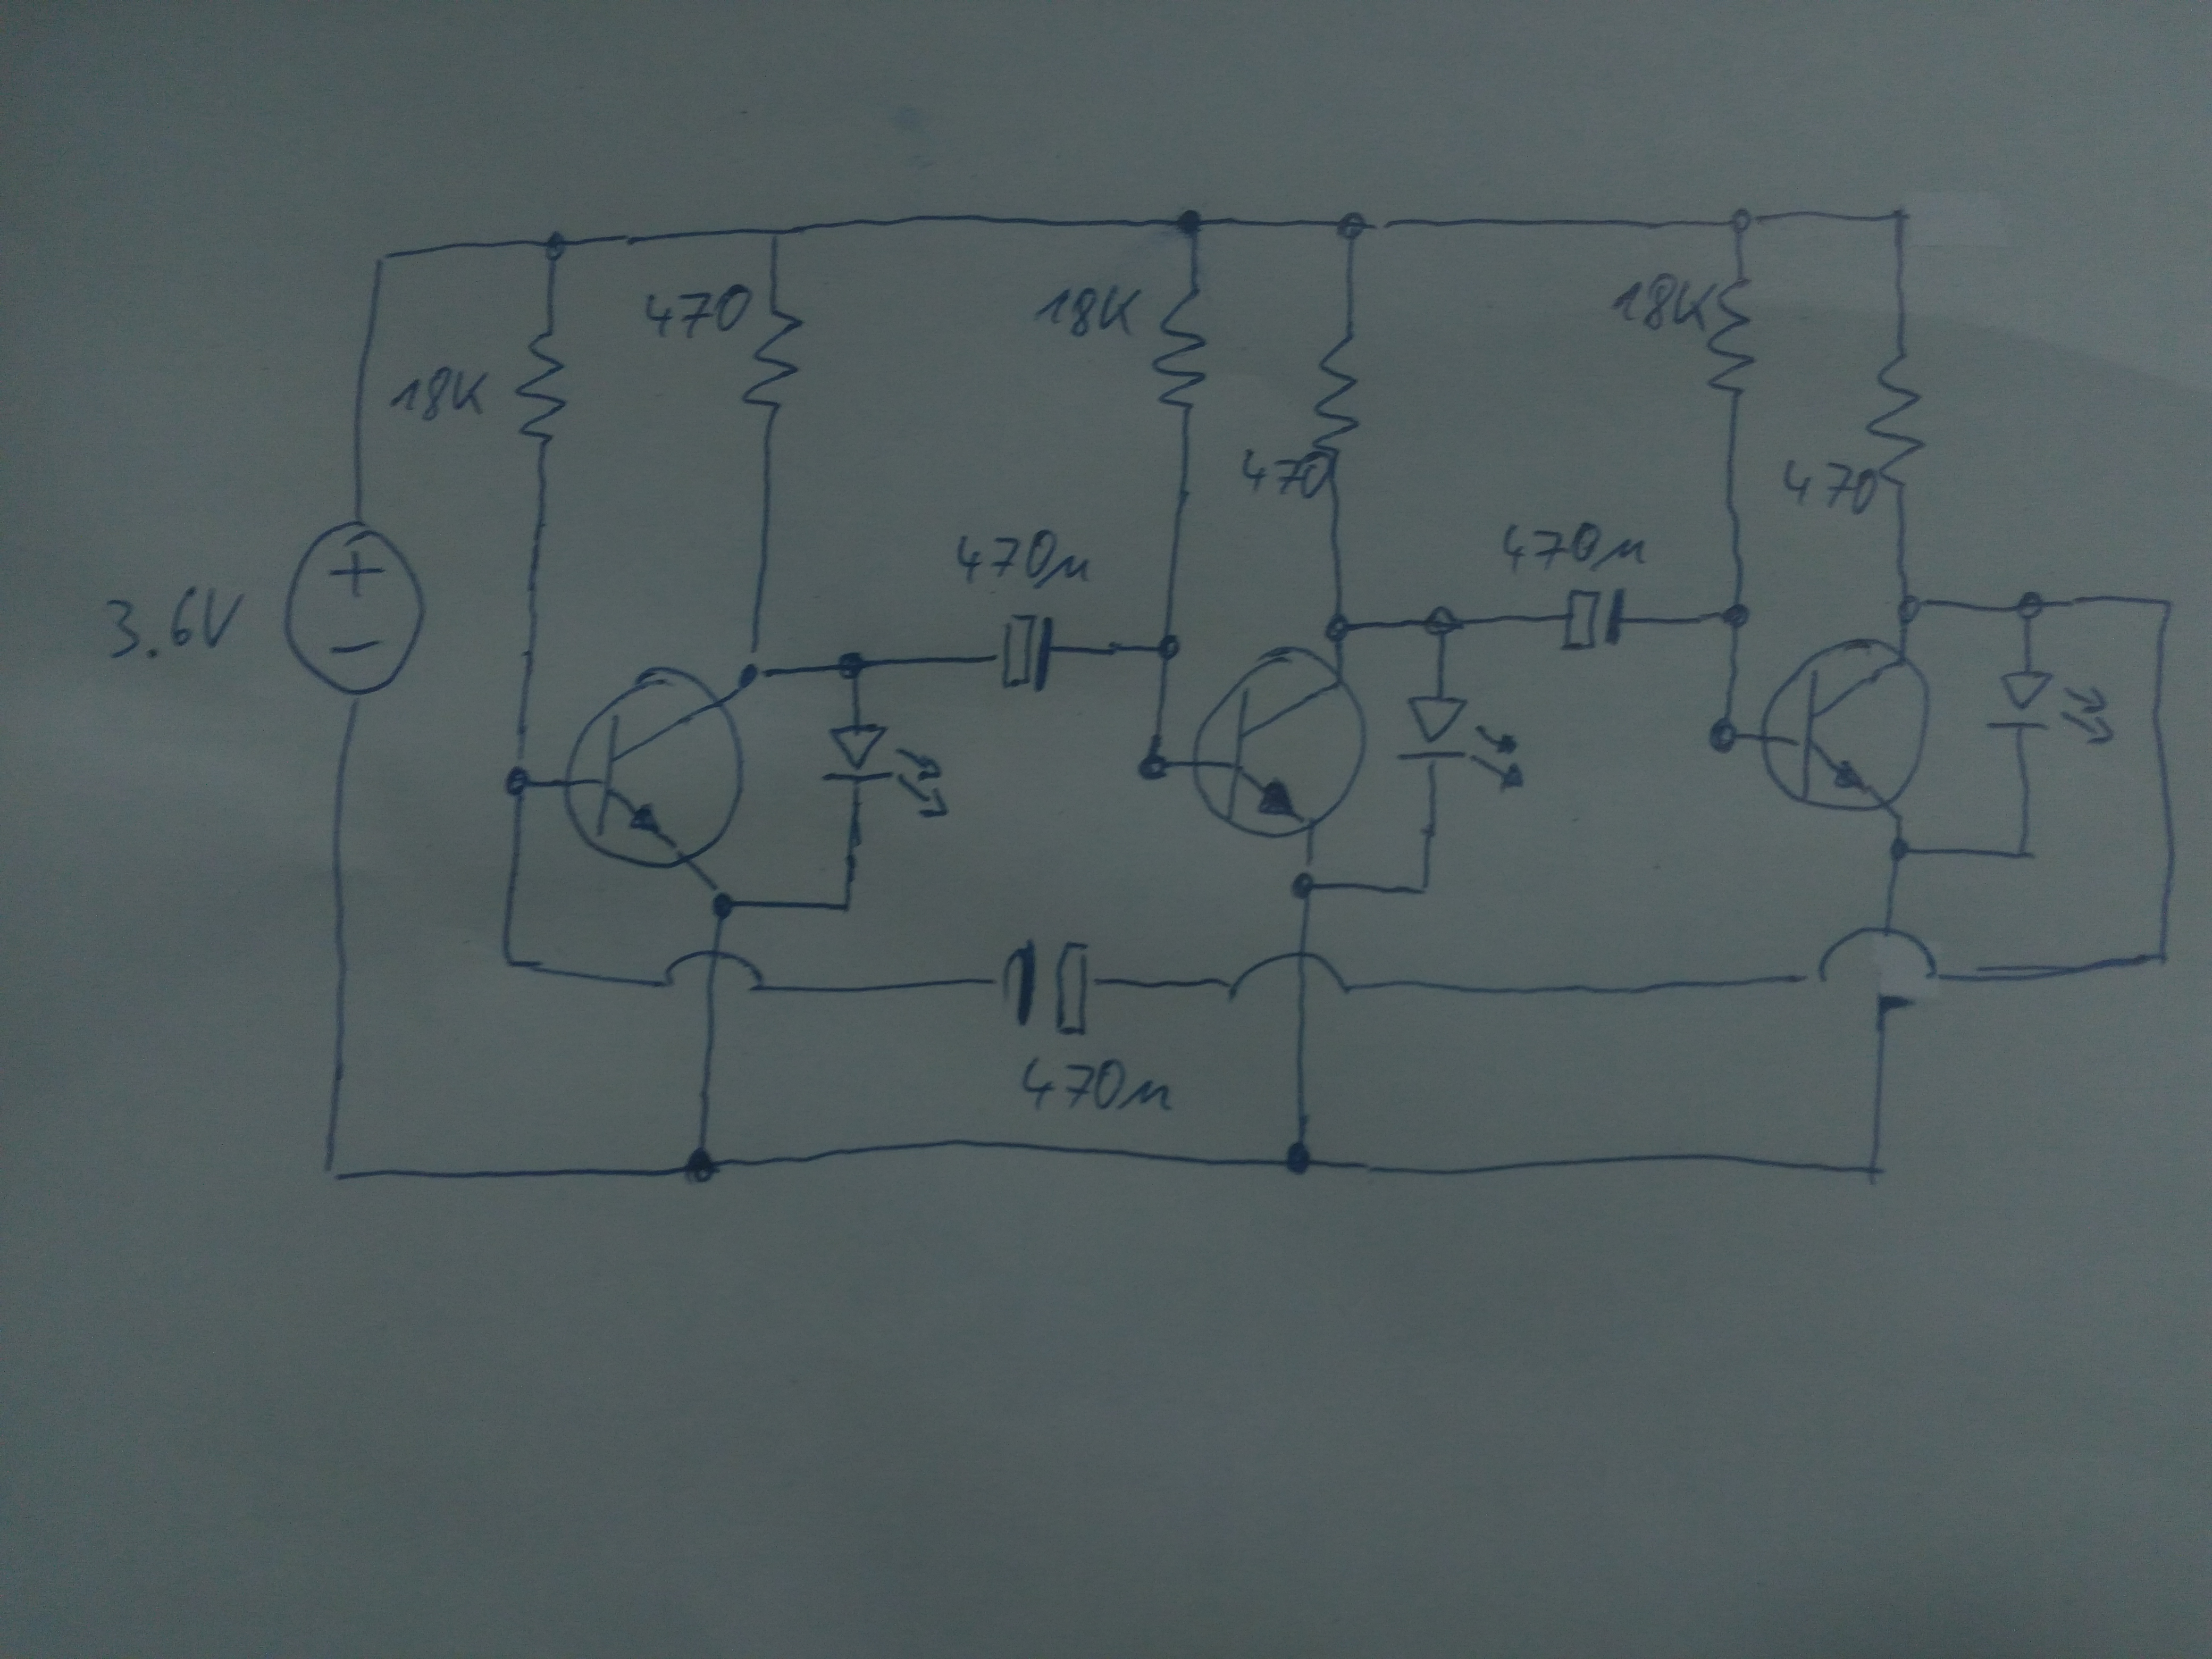capacitor.polarized: (1010, 934, 1094, 1044), (996, 612, 1059, 695), (1559, 586, 1630, 657)
crossover: (1803, 920, 1944, 999), (1223, 945, 1355, 1007), (657, 945, 768, 1000)
diode.light_emitting: (819, 720, 956, 824), (1395, 690, 1531, 795), (1984, 669, 2120, 749)
junction: (1848, 1150, 1895, 1192), (310, 1148, 350, 1192), (1703, 714, 1743, 758), (679, 1147, 721, 1185), (2141, 939, 2181, 978), (1879, 197, 1921, 234), (704, 887, 742, 925), (1318, 610, 1357, 648), (831, 648, 871, 685), (1421, 598, 1458, 638), (1277, 1143, 1318, 1178), (1285, 868, 1324, 904), (1332, 207, 1371, 244), (1717, 599, 1754, 636), (500, 762, 535, 800), (1134, 751, 1172, 786), (2010, 591, 2048, 626), (1893, 589, 1926, 627), (1885, 833, 1918, 871), (2005, 836, 2038, 875), (1726, 202, 1761, 237), (536, 230, 573, 263), (1177, 202, 1211, 239), (489, 946, 526, 979), (735, 659, 768, 694), (1406, 871, 1439, 906), (758, 221, 794, 253), (1153, 629, 1184, 664), (2148, 591, 2182, 622), (368, 246, 401, 275), (831, 889, 860, 922)
resistor: (1862, 347, 1930, 495), (1148, 281, 1211, 416), (1308, 329, 1367, 467), (1702, 274, 1761, 404), (738, 305, 808, 415), (512, 329, 571, 455)
text: (98, 580, 249, 669), (951, 523, 1109, 594), (1014, 1053, 1181, 1119), (1496, 518, 1653, 579), (641, 279, 756, 343), (1602, 270, 1714, 336), (1028, 281, 1146, 340), (1777, 455, 1885, 518), (385, 364, 493, 425), (1231, 446, 1336, 500)
transistor: (556, 662, 749, 878), (1190, 641, 1369, 842), (1754, 631, 1939, 821)
voltage.dc: (277, 519, 434, 701)
